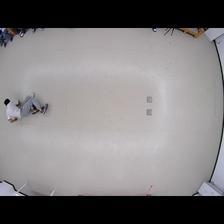fall: (3, 92, 49, 125)
